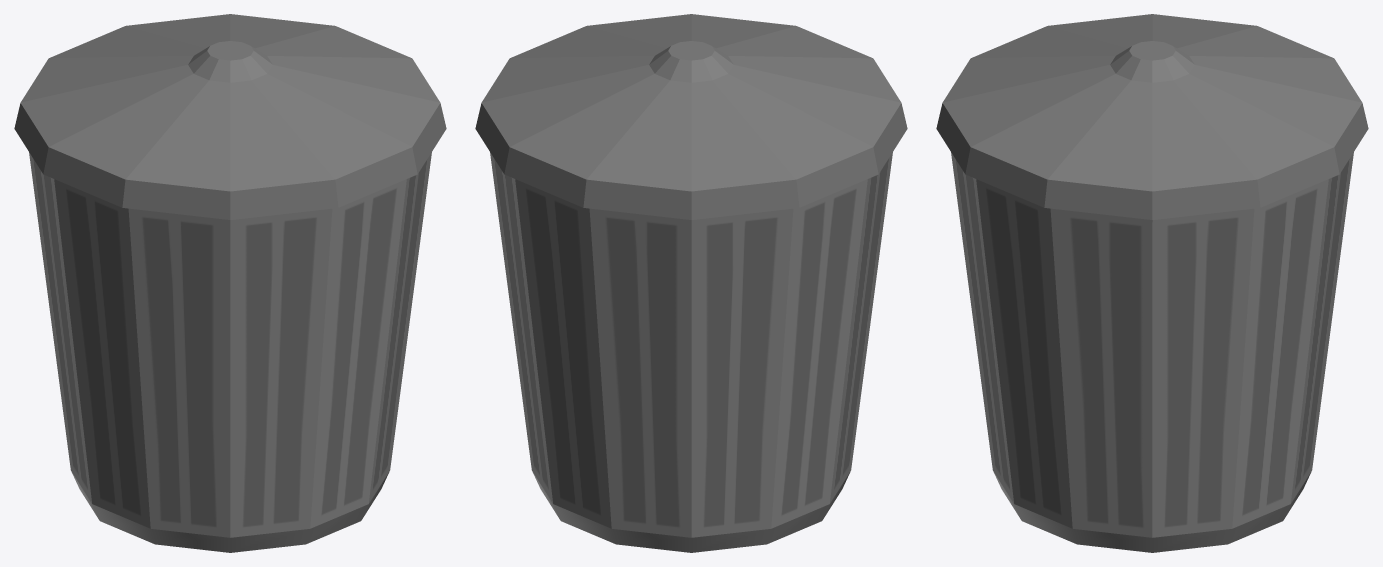
File: Garbage Can.FBX
The picture shows the model from 3 angles, left to right: view 1: azimuth 30°, elevation 25°; view 2: azimuth 150°, elevation 25°; view 3: azimuth 270°, elevation 25°; orthographic projection.
Visible parts, largest first — view 1: Cylinder001; view 2: Cylinder001; view 3: Cylinder001.
Boxes of the visible parts, left/top/right/bottom form: Cylinder001: left=14, top=14, right=446, bottom=552; Cylinder001: left=475, top=14, right=907, bottom=552; Cylinder001: left=936, top=14, right=1368, bottom=552.
Size of the model in its own units: 210 by 235 by 210.
